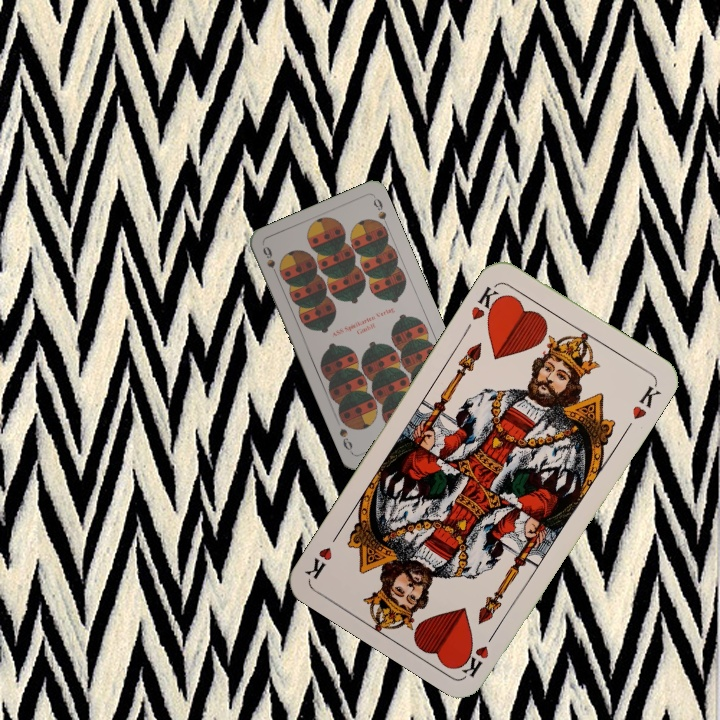HK: (458, 624, 501, 680), (466, 280, 506, 324)
S9: (258, 242, 284, 281)
